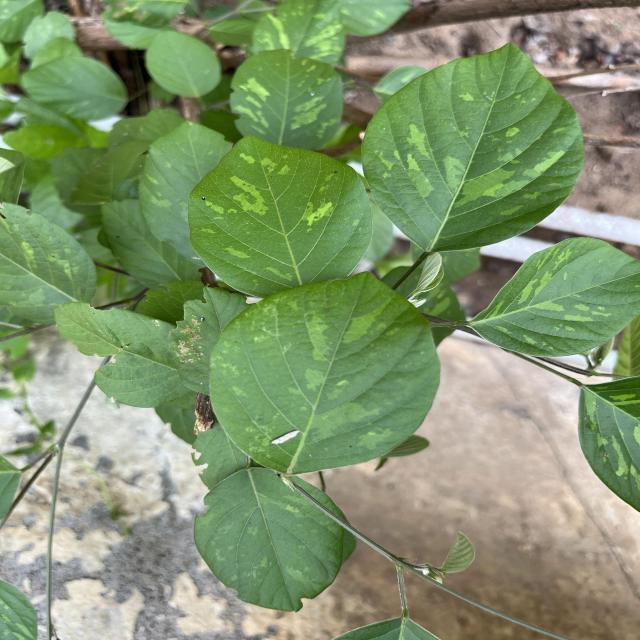Desmodium gangeticum: (358, 39, 586, 258), (184, 133, 374, 301), (468, 235, 639, 359)
